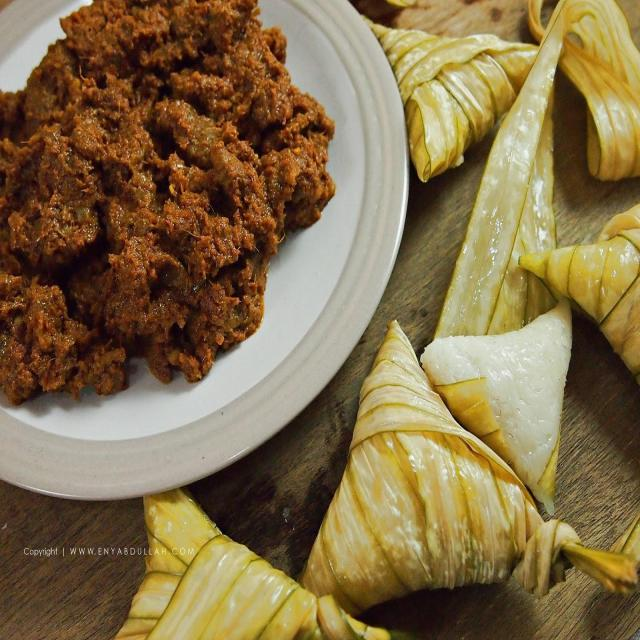Rendang: (0, 5, 341, 441)
